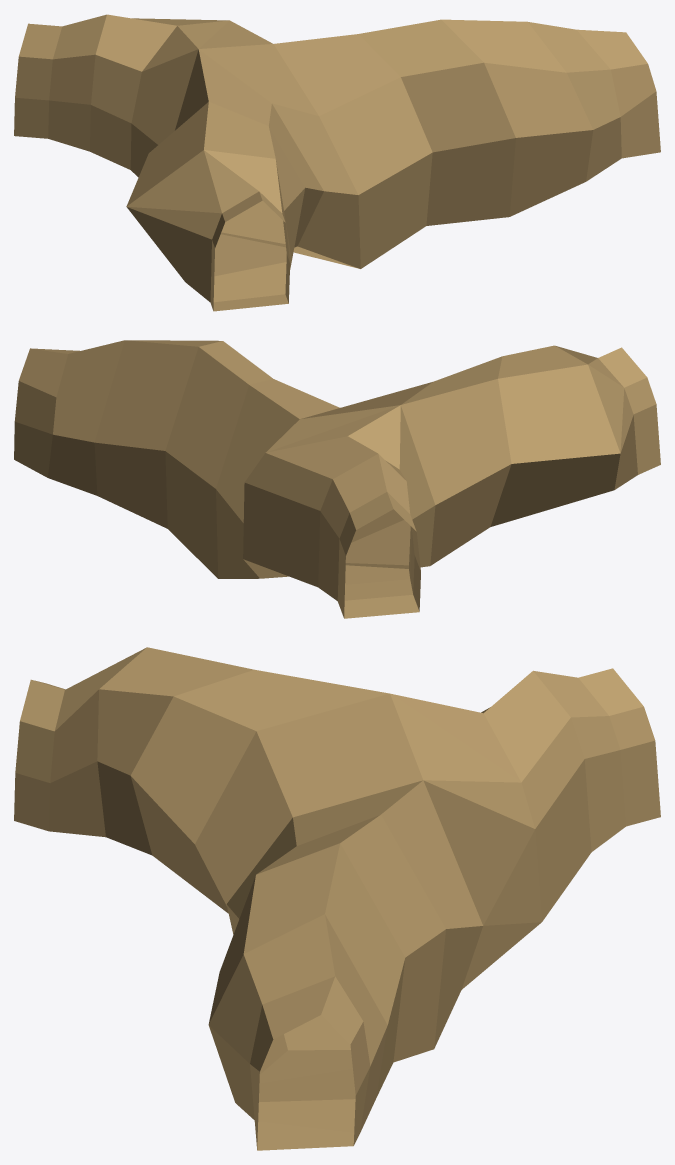
Rendered from Tunnel-Y01.fbx.
3 renders of one model, top to bottom at view 1: azimuth 30°, elevation 25°; view 2: azimuth 150°, elevation 25°; view 3: azimuth 270°, elevation 25°, orthographic. The views are drawn at different scales.
Parts seen in each view (by area): view 1: Tunnel-Y01; view 2: Tunnel-Y01; view 3: Tunnel-Y01.
Part boxes in pixels (bbox=[...]): Tunnel-Y01: bbox=[14, 14, 660, 311]; Tunnel-Y01: bbox=[14, 340, 660, 618]; Tunnel-Y01: bbox=[14, 647, 660, 1150].
Size of the model in its own units: 1128 by 1405 by 501.
